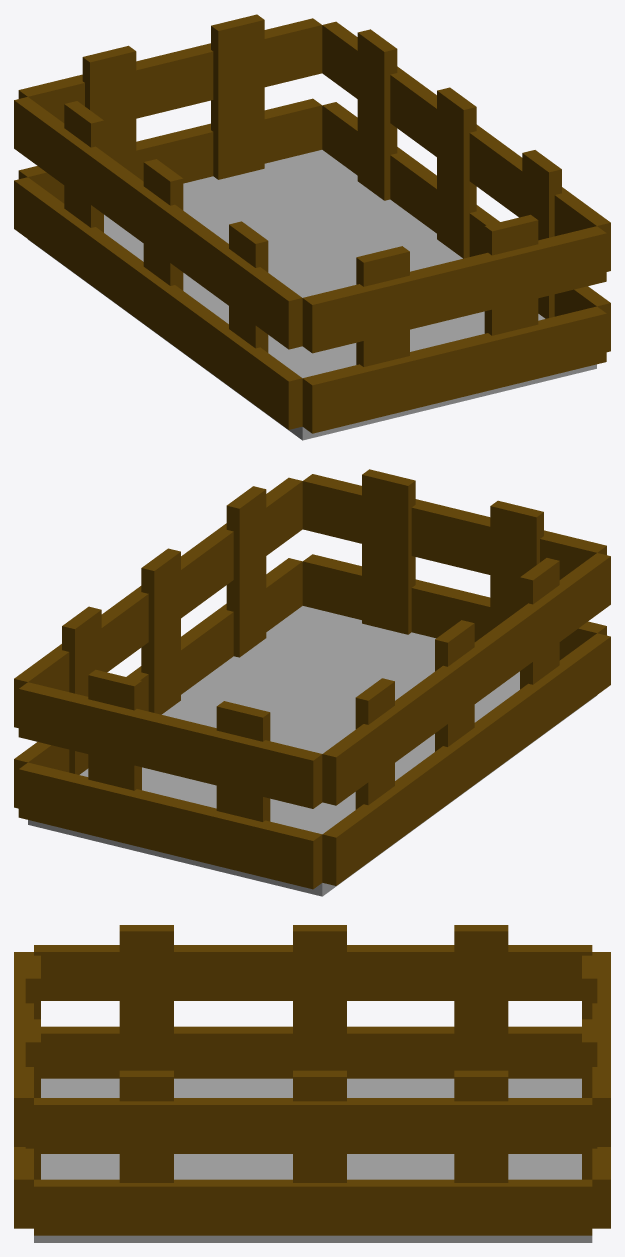
File: crate.fbx
3 views of the same model, one above another, from view 1: azimuth 30°, elevation 25°; view 2: azimuth 150°, elevation 25°; view 3: azimuth 270°, elevation 25° (orthographic).
Parts seen in each view (by area): view 1: crate; view 2: crate; view 3: crate.
Boxes of the visible parts, <box> form: crate: <box>14,14,610,440</box>; crate: <box>14,469,610,896</box>; crate: <box>14,925,610,1242</box>.
Bounding box in the file's own units: 6.97 × 3.45 × 11.01.
